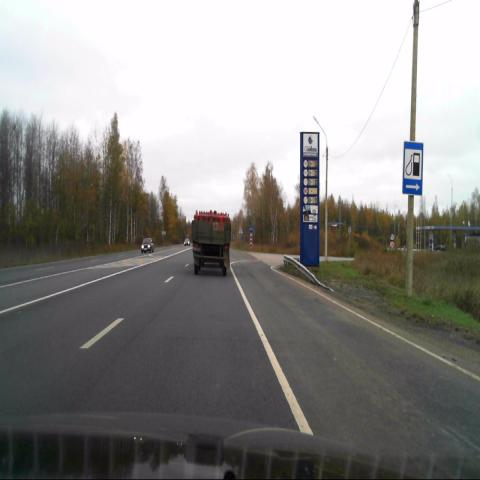7_3: (403, 140, 424, 196)
